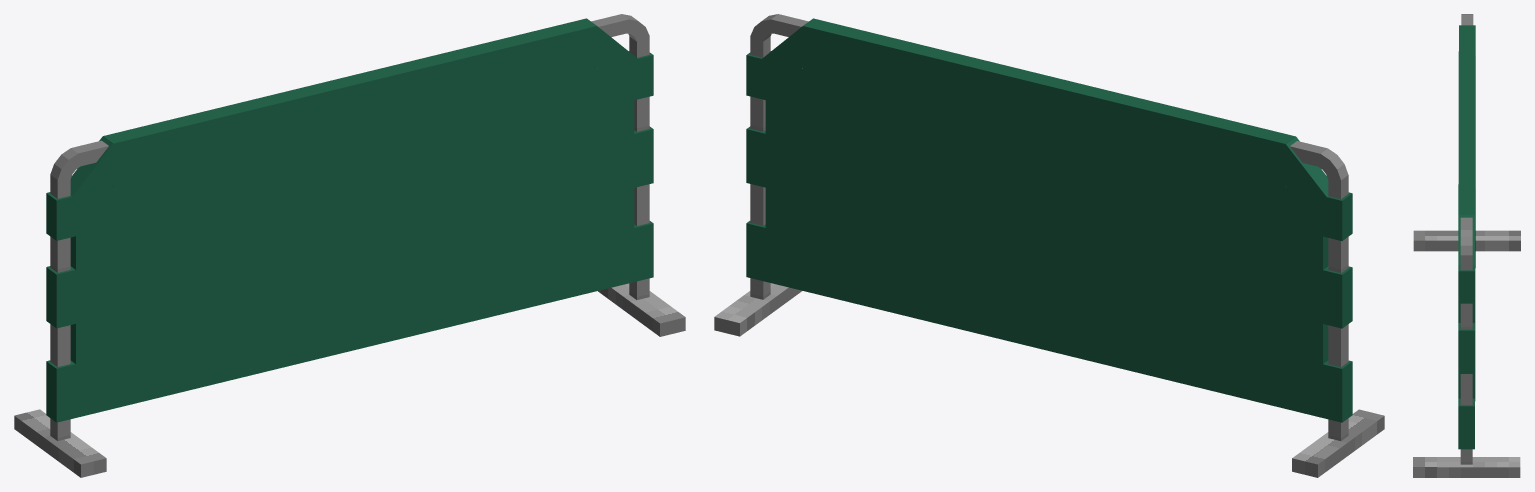
The picture shows the model from 3 angles, left to right: view 1: azimuth 30°, elevation 25°; view 2: azimuth 150°, elevation 25°; view 3: azimuth 270°, elevation 25°; orthographic projection. The views are drawn at different scales.
Parts seen in each view (by area): view 1: Object_2, Object_3; view 2: Object_2, Object_3; view 3: Object_2, Object_3.
Part boxes in pixels (x1,y1,x2,y2): Object_2: (46,18,653,422); Object_3: (14,14,685,477); Object_2: (746,18,1352,422); Object_3: (714,14,1384,477); Object_2: (1458,25,1475,449); Object_3: (1413,14,1520,477).
Size of the model in its own units: 47.01 by 22.2 by 9.05.
2 materials, 2 textured.
